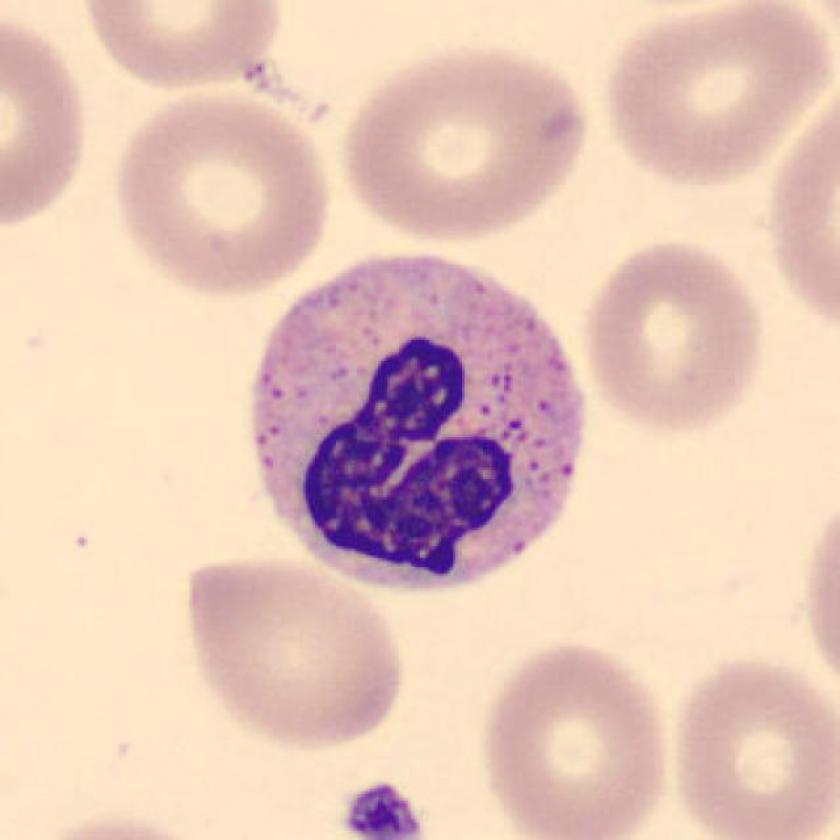neutrophil: (253, 255, 585, 587)
